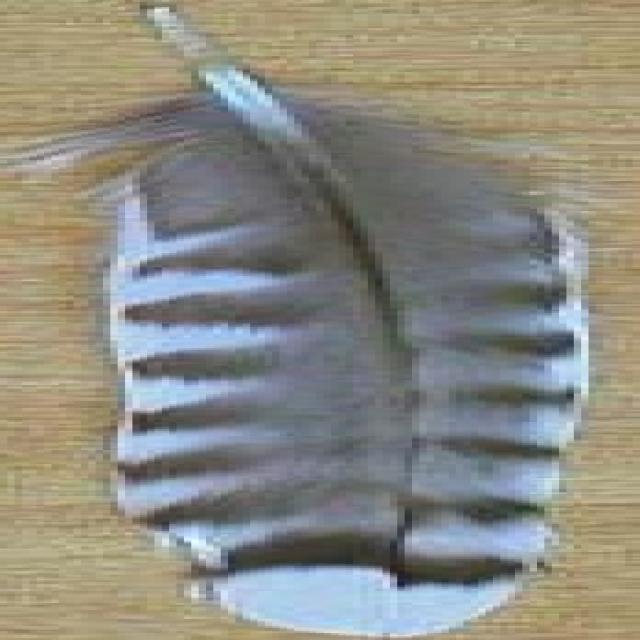feather: (37, 6, 594, 636)
